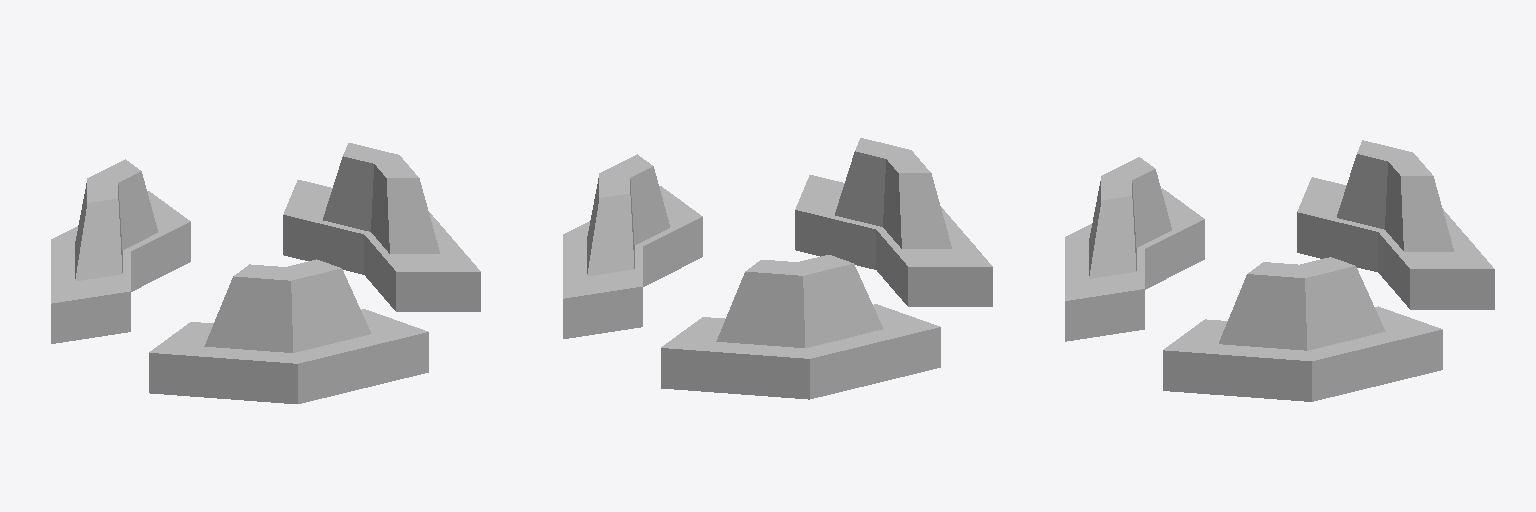
Rendered from target_obj.obj.
3 views of the same model, side by side, from view 1: azimuth 30°, elevation 25°; view 2: azimuth 150°, elevation 25°; view 3: azimuth 270°, elevation 25° (orthographic).
Visible parts, largest first — view 1: Sphere.002_Sphere.004; view 2: Sphere.002_Sphere.004; view 3: Sphere.002_Sphere.004.
Boxes of the visible parts, x1=… form: Sphere.002_Sphere.004: x1=51, y1=143, x2=480, y2=403; Sphere.002_Sphere.004: x1=563, y1=138, x2=992, y2=399; Sphere.002_Sphere.004: x1=1065, y1=140, x2=1494, y2=401.
Bounding box in the file's own units: 1.87 × 0.5097 × 1.84.